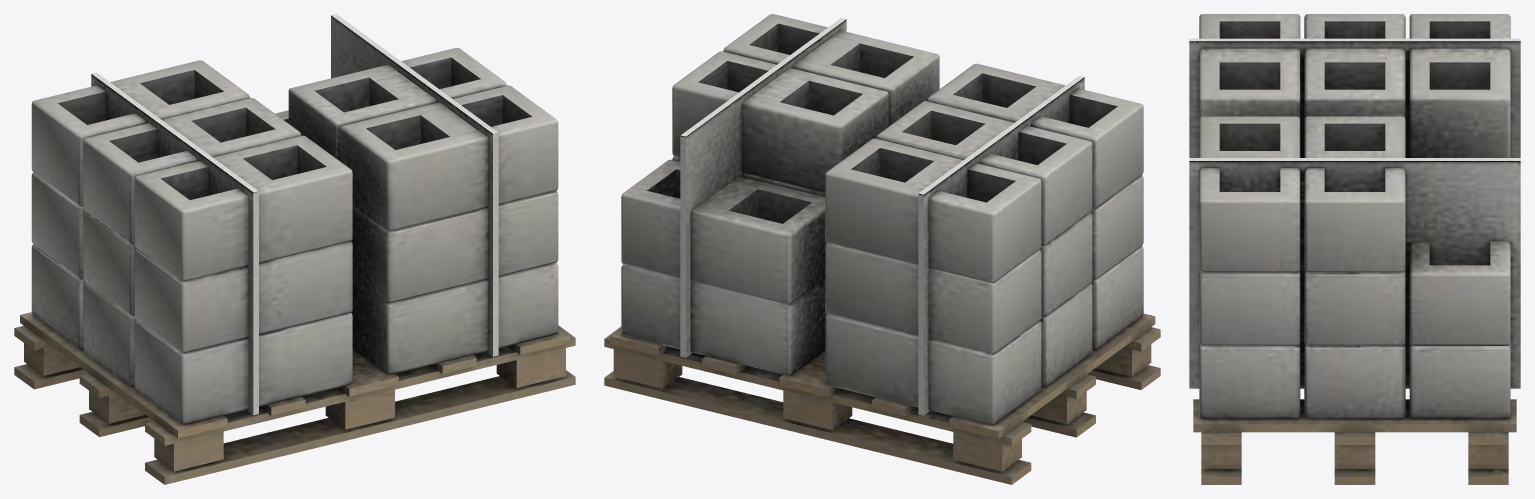
Rendered from pallet.glb.
3 renders of one model, left to right at view 1: azimuth 30°, elevation 25°; view 2: azimuth 150°, elevation 25°; view 3: azimuth 270°, elevation 25°, orthographic. The views are drawn at different scales.
Parts seen in each view (by area): view 1: block-0.5-0.33; view 2: block-0.5-0.33; view 3: block-0.5-0.33.
Part boxes in pixels (left/top/right/bottom): block-0.5-0.33: left=14, top=14, right=575, bottom=484; block-0.5-0.33: left=604, top=14, right=1160, bottom=484; block-0.5-0.33: left=1189, top=14, right=1520, bottom=484.
Bounding box in the file's own units: 1.2 × 0.772 × 0.82.
1 material, 1 textured.
